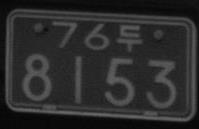1: (64, 55, 93, 104)
3: (145, 58, 177, 110)
5: (104, 57, 135, 107)
6: (83, 22, 110, 50)
7: (51, 20, 77, 48)
8: (21, 52, 52, 102)
두: (116, 24, 142, 52)
